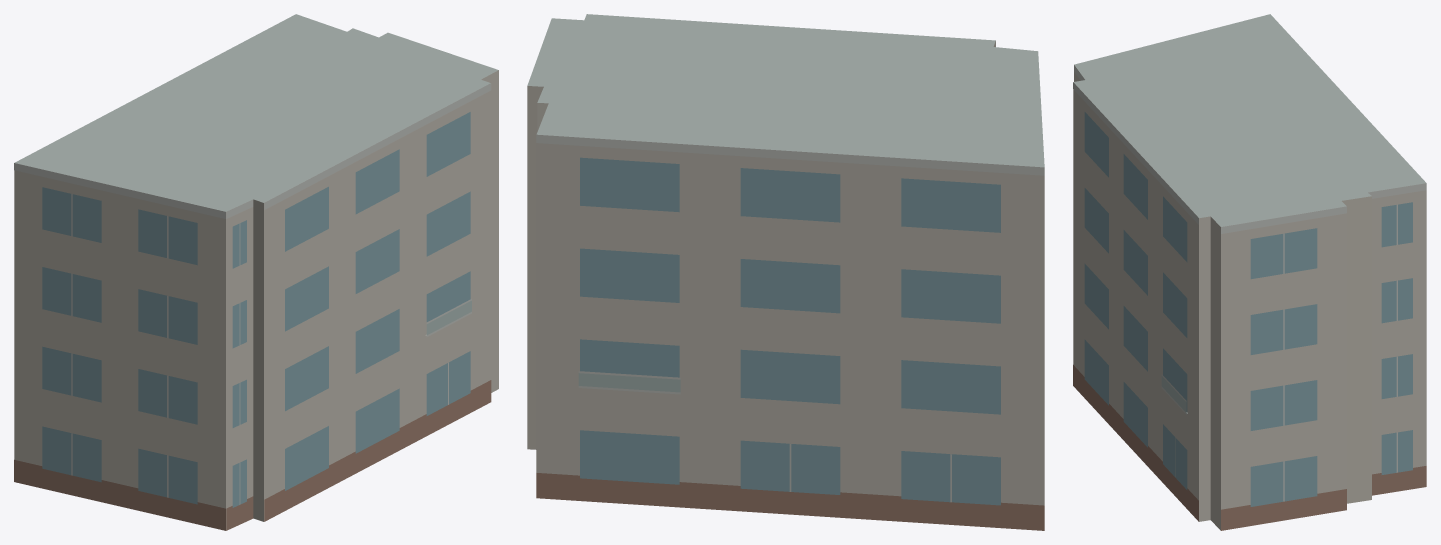
File: survey-upis-32949152.glb
3 renders of one model, left to right at view 1: azimuth 30°, elevation 25°; view 2: azimuth 150°, elevation 25°; view 3: azimuth 270°, elevation 25°, orthographic. The views are drawn at different scales.
Parts seen in each view (by area): view 1: survey-upis-32949152.tmp; view 2: survey-upis-32949152.tmp; view 3: survey-upis-32949152.tmp.
Boxes of the visible parts, x1,y1,x2,y2 form: survey-upis-32949152.tmp: (14, 14, 498, 530); survey-upis-32949152.tmp: (527, 14, 1044, 530); survey-upis-32949152.tmp: (1073, 14, 1426, 530).
Bounding box in the file's own units: 15.96 × 10.6 × 11.19.
